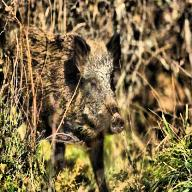boar: (5, 12, 128, 181)
